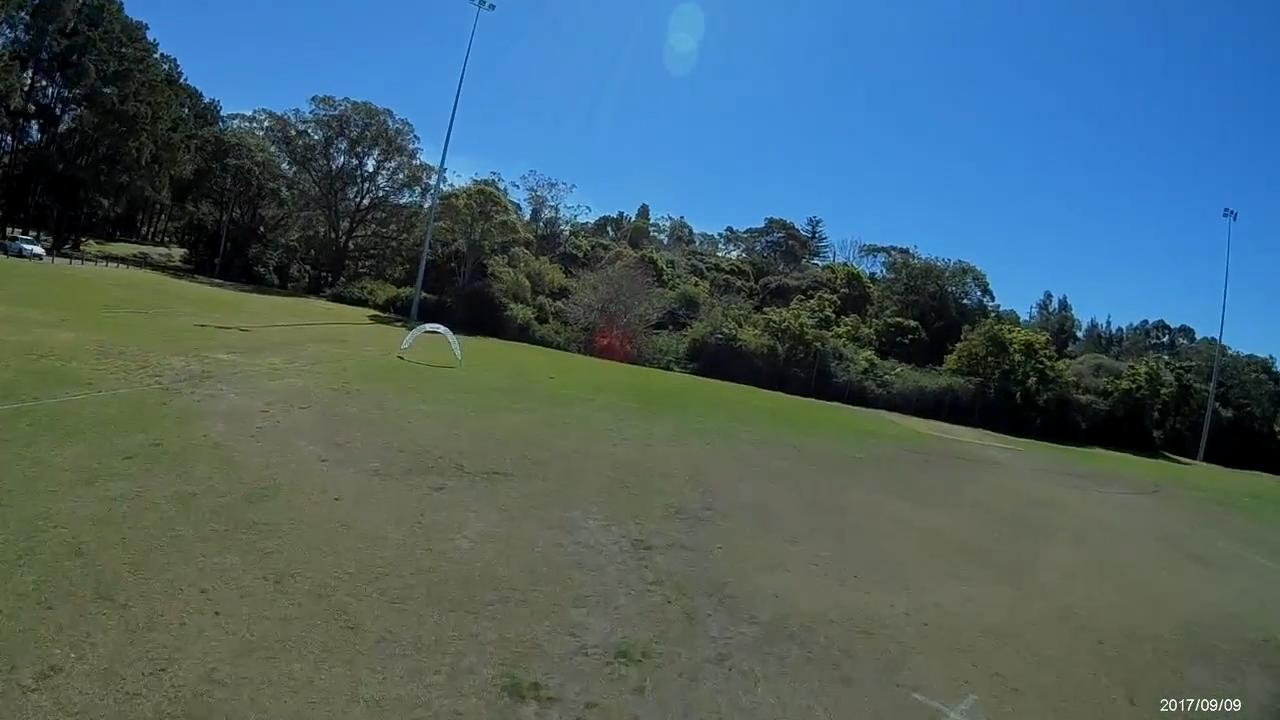gate: (401, 319, 463, 361)
